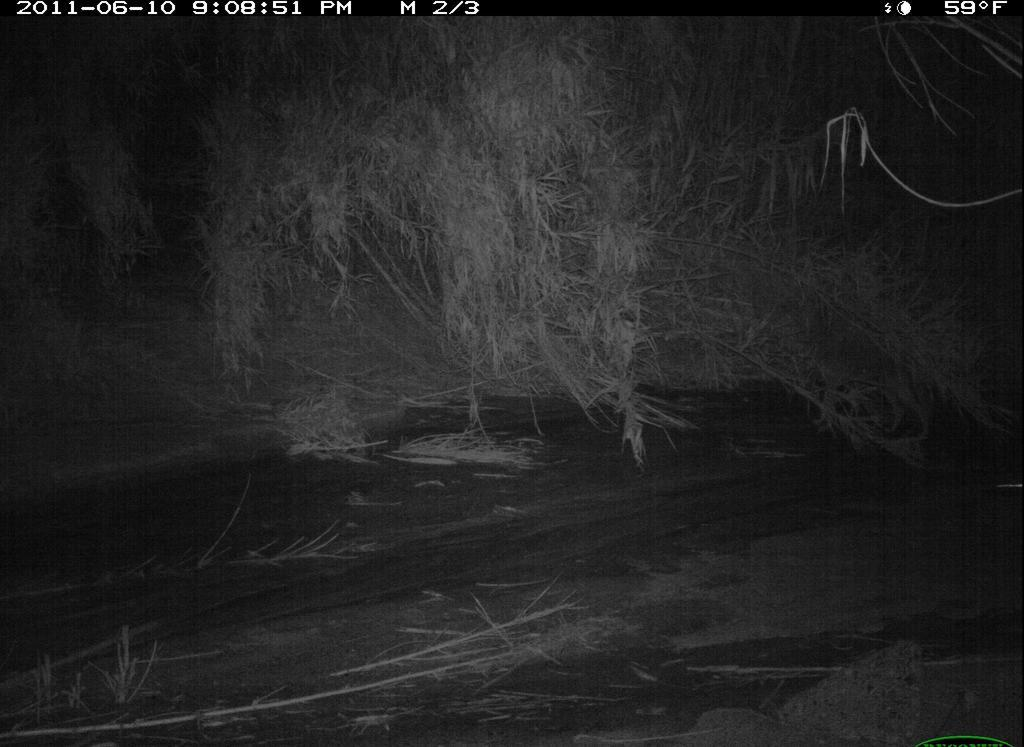coyote: (793, 315, 944, 442)
